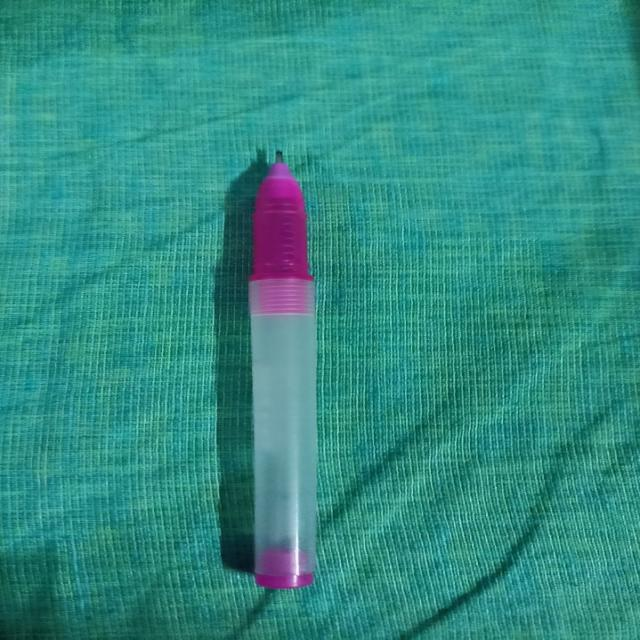pen: (214, 136, 362, 599)
